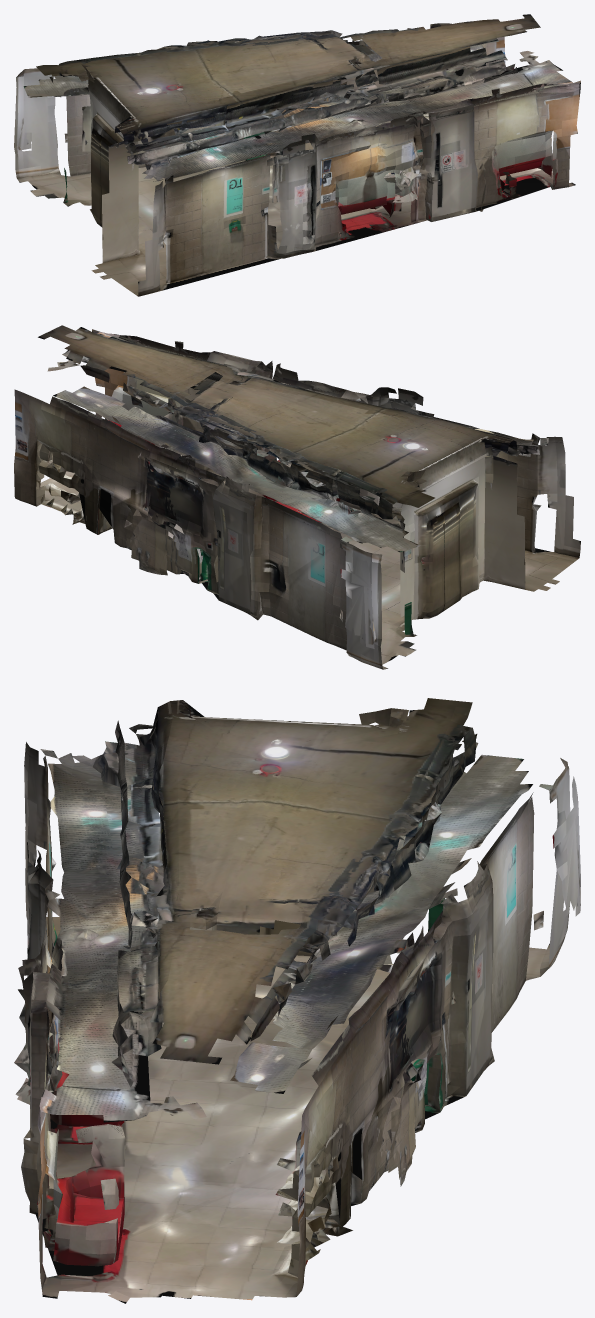
The model's file is MLG_corr_2-IM.fbx.
The picture shows the model from 3 angles, top to bottom: view 1: azimuth 30°, elevation 25°; view 2: azimuth 150°, elevation 25°; view 3: azimuth 270°, elevation 25°; orthographic projection. The views are drawn at different scales.
Visible parts, largest first — view 1: MLG_corr_2-IM; view 2: MLG_corr_2-IM; view 3: MLG_corr_2-IM.
Boxes of the visible parts, x1,y1,x2,y2 form: MLG_corr_2-IM: (14, 14, 580, 296); MLG_corr_2-IM: (14, 325, 580, 669); MLG_corr_2-IM: (14, 698, 580, 1303).
Size of the model in its own units: 1127 by 352 by 688.
1 material, 1 textured.
